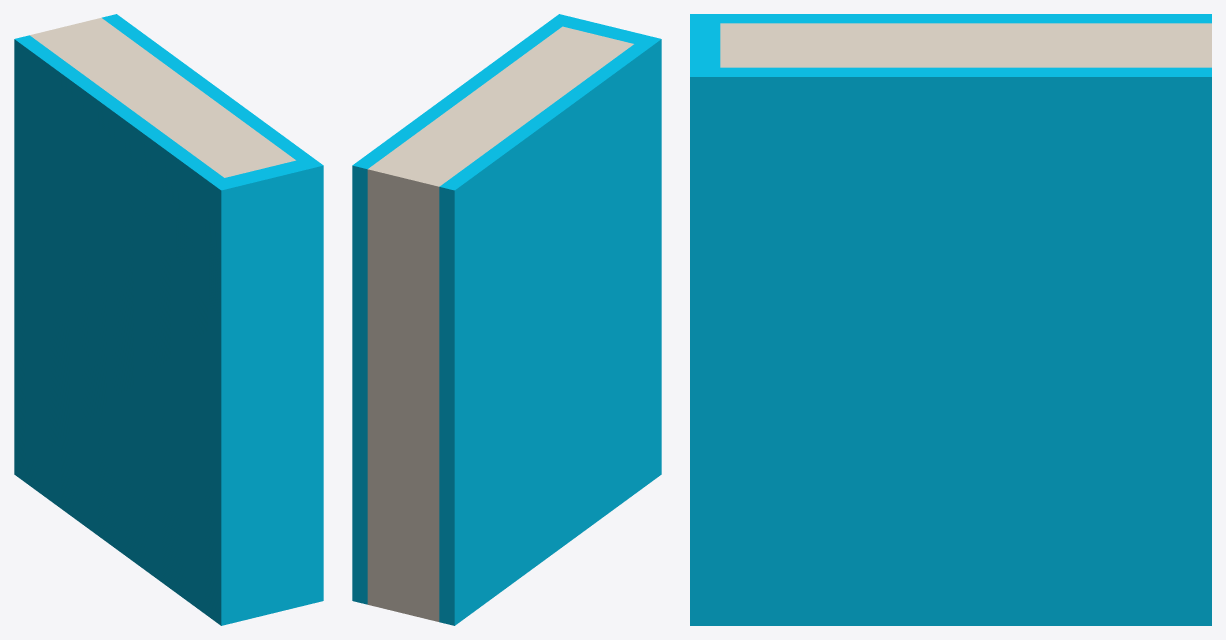
Rendered from Book_edited.fbx.
The picture shows the model from 3 angles, left to right: view 1: azimuth 30°, elevation 25°; view 2: azimuth 150°, elevation 25°; view 3: azimuth 270°, elevation 25°; orthographic projection. The views are drawn at different scales.
Parts seen in each view (by area): view 1: SM_Prop_Book_02_1; view 2: SM_Prop_Book_02_1; view 3: SM_Prop_Book_02_1.
Part boxes in pixels (x1,y1,x2,y2): SM_Prop_Book_02_1: (14,14,323,625); SM_Prop_Book_02_1: (352,14,661,625); SM_Prop_Book_02_1: (690,14,1211,625).
Size of the model in its own units: 8.2 by 33.28 by 28.68.
